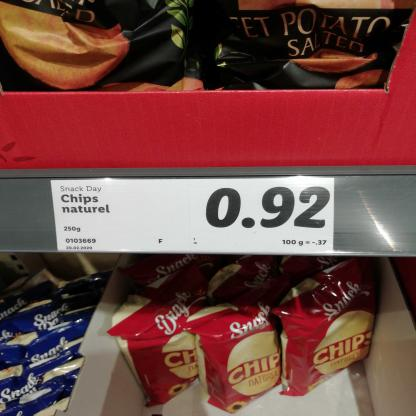prtg: (52, 179, 335, 254)
